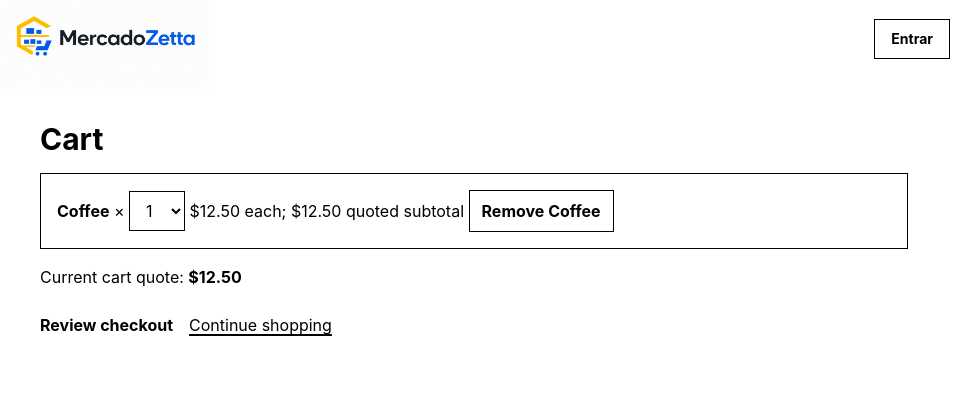
Test: marketplace pages › rolls cart mutations back and preserves error copy
Select "2" in the dropdown named "Quantity for Coffee" at (157, 211), box x1=129 y1=191 x2=185 y2=231
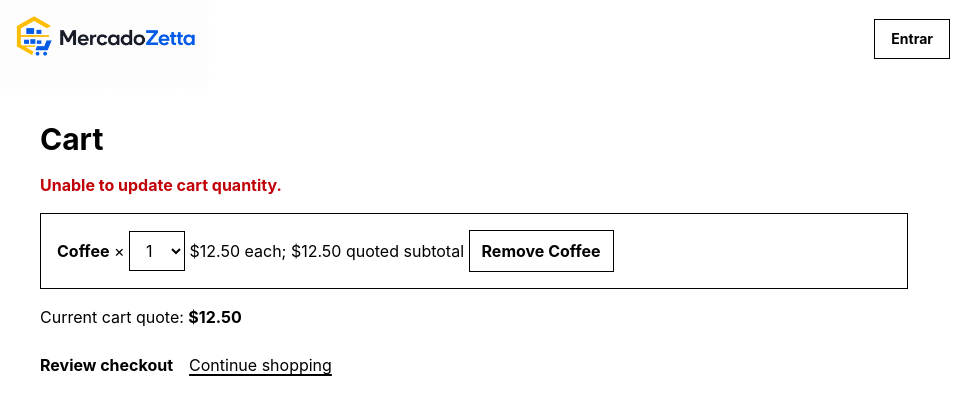
Result: the message reads "Unable to update cart quantity." at x1=40 y1=175 x2=282 y2=195
Click the button "Remove Coffee".
click(541, 251)  # box x1=468 y1=230 x2=614 y2=272
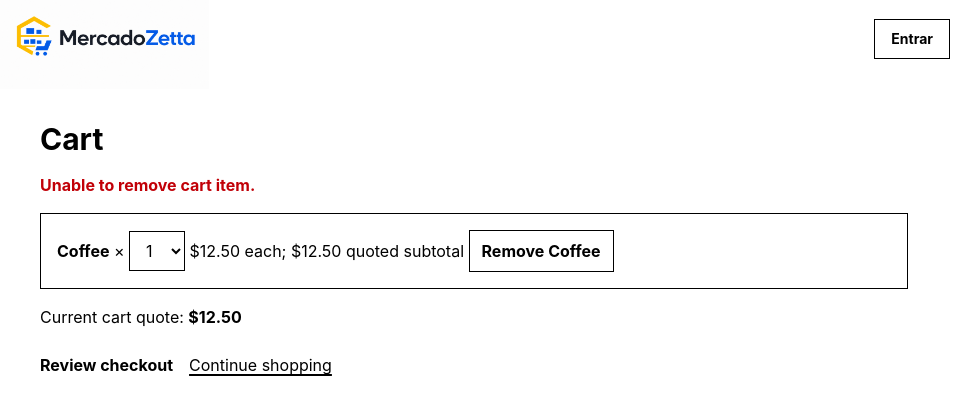
Result: the message reads "Unable to remove cart item." at x1=40 y1=175 x2=255 y2=195
